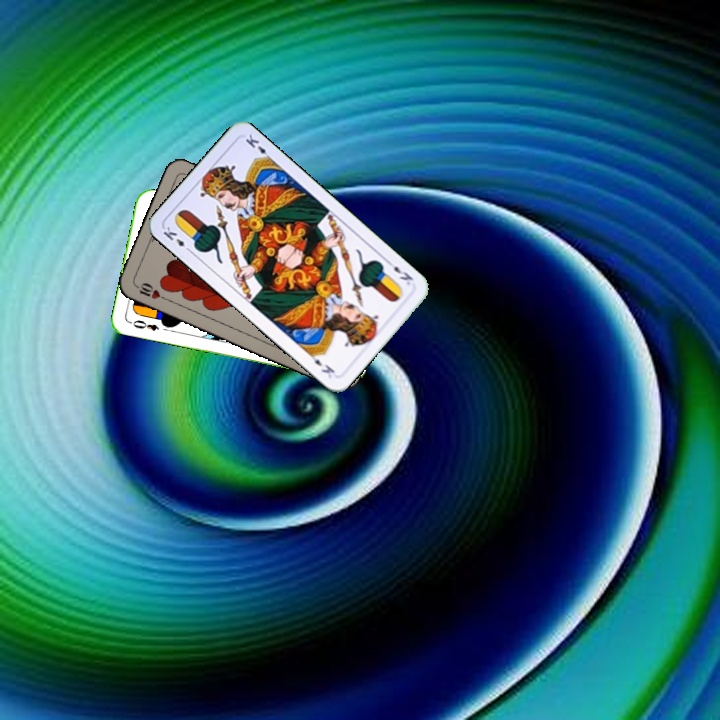EK: (159, 222, 194, 255), (383, 256, 416, 288)
EO: (125, 316, 162, 333)
H10: (132, 279, 170, 303)
